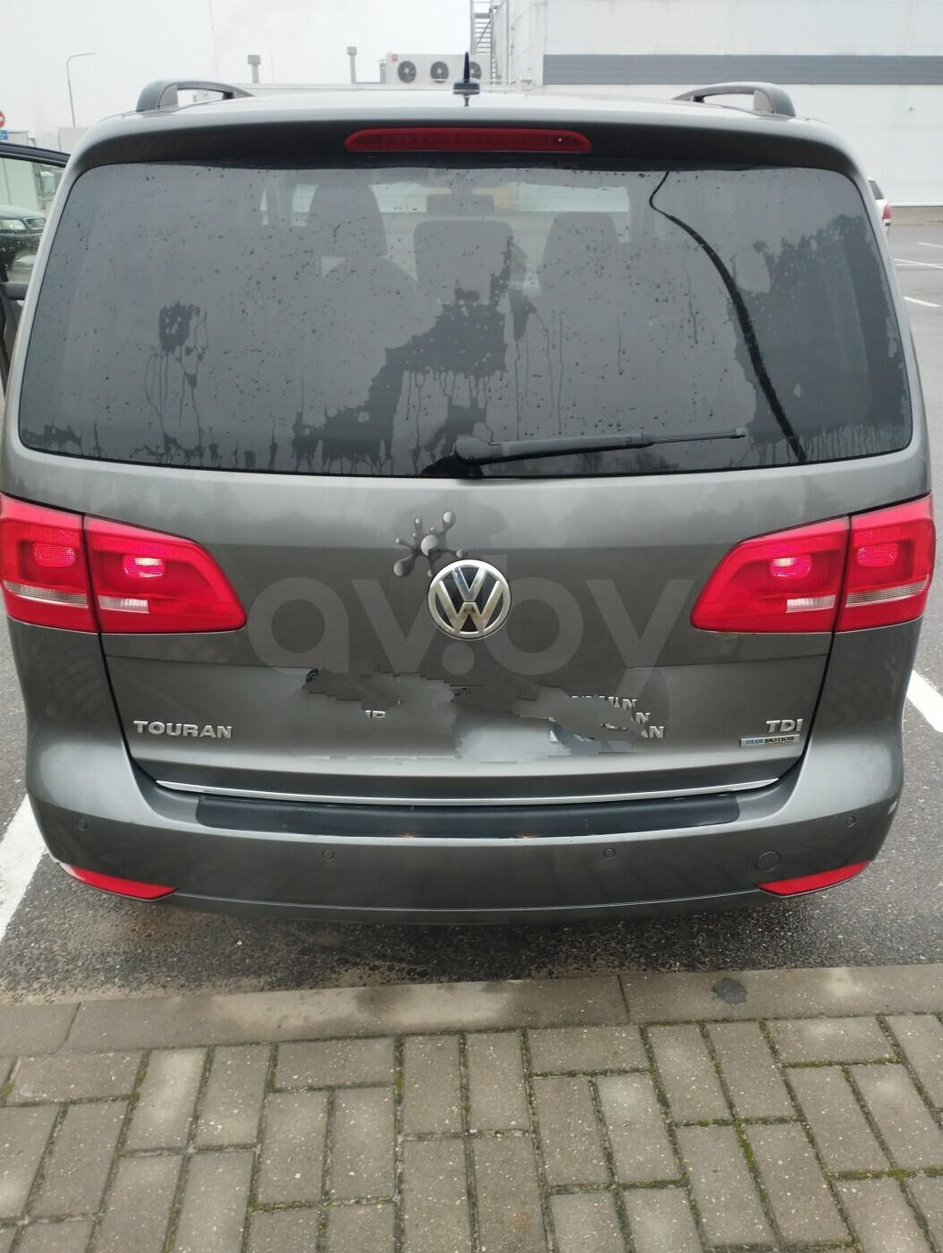Touran_2010-2015: (0, 77, 943, 927)
